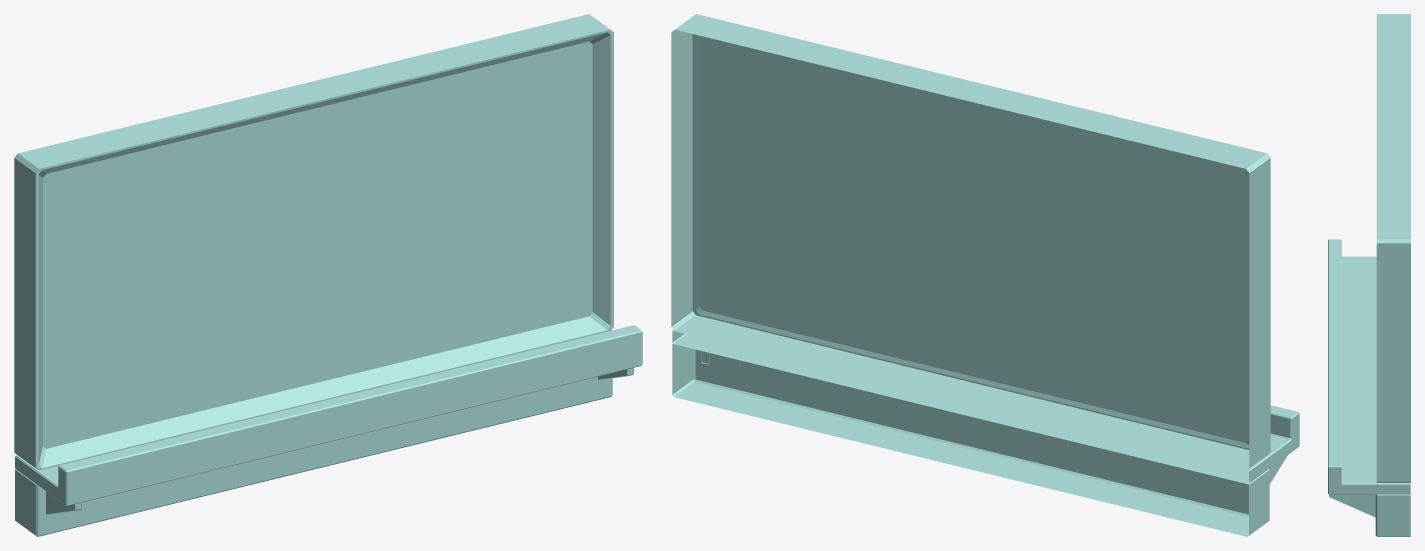
Rendered from large_WallMirror.fbx.
3 renders of one model, left to right at view 1: azimuth 30°, elevation 25°; view 2: azimuth 150°, elevation 25°; view 3: azimuth 270°, elevation 25°, orthographic. The views are drawn at different scales.
Visible parts, largest first — view 1: pCube14; view 2: pCube14; view 3: pCube14.
Boxes of the visible parts, box(x1,y1,x2,y2) form: pCube14: box(14, 14, 642, 536); pCube14: box(671, 14, 1299, 536); pCube14: box(1328, 14, 1410, 536).
Bounding box in the file's own units: 1.55 × 0.9412 × 0.2378.
